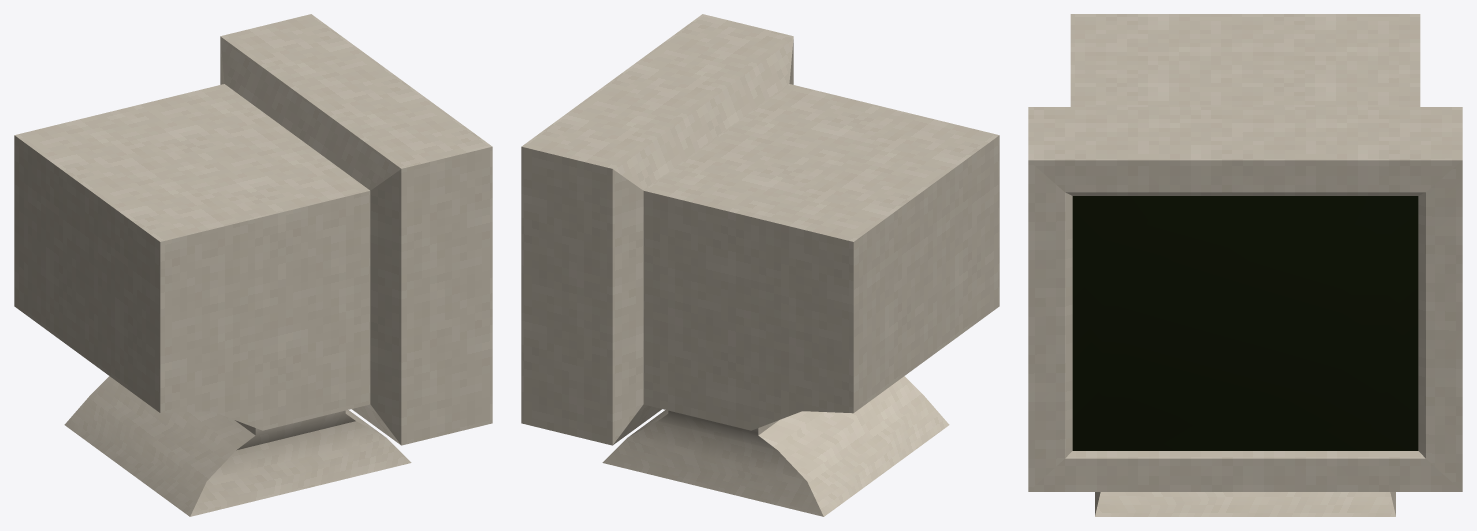
File: monitor.obj
The picture shows the model from 3 angles, left to right: view 1: azimuth 30°, elevation 25°; view 2: azimuth 150°, elevation 25°; view 3: azimuth 270°, elevation 25°; orthographic projection. The views are drawn at different scales.
Visible parts, largest first — view 1: Cube; view 2: Cube; view 3: Cube.
Part boxes in pixels (bbox=[...]): Cube: bbox=[14, 14, 492, 516]; Cube: bbox=[521, 14, 999, 516]; Cube: bbox=[1028, 14, 1462, 516].
Bounding box in the file's own units: 0.4932 × 0.4819 × 0.4892.
Materials: 2 (2 with a texture image).
